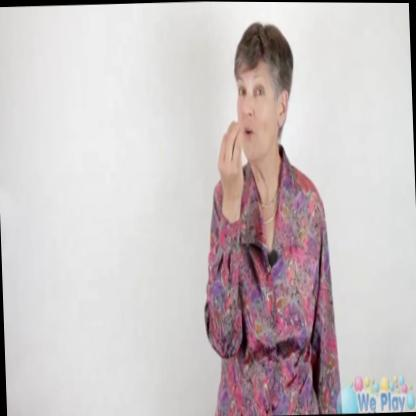Food: (209, 18, 304, 207)
